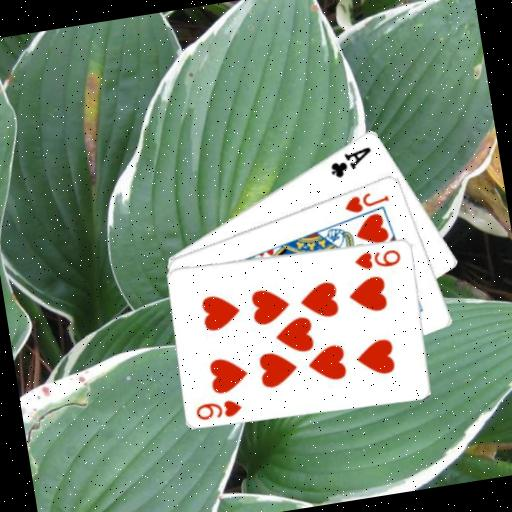9H: (350, 243, 403, 273), (192, 394, 245, 424)
AC: (324, 142, 376, 181)
JH: (340, 186, 392, 216)
